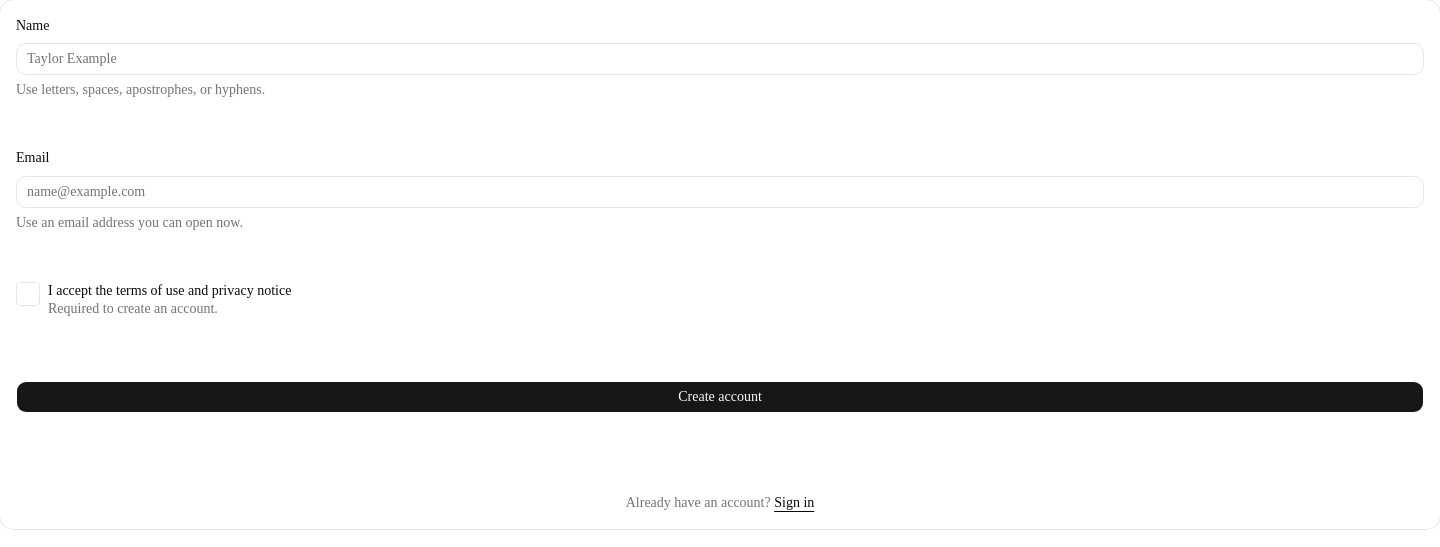
SignupForm core flow › submits normalized exact JSON once and shows the generic confirmation
In the field labelled "Name": coordinates (720, 59) [16, 43, 1424, 75], type "  José O’Neil  "
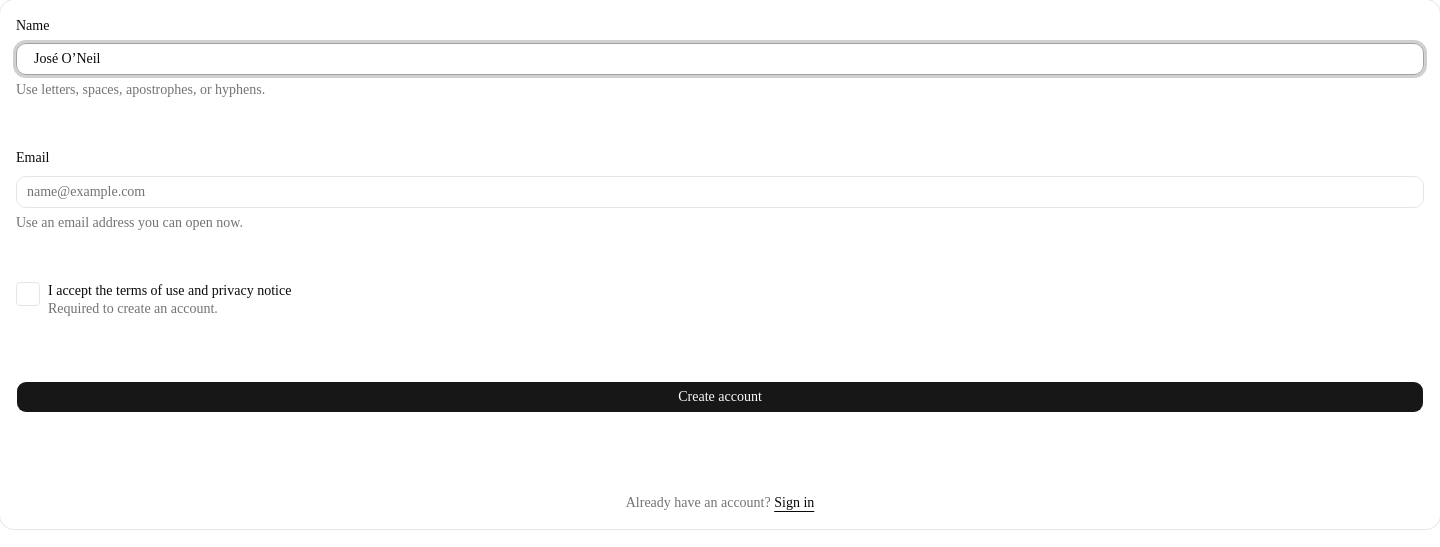
In the field labelled "Email": coordinates (720, 192) [16, 176, 1424, 208], type " Person@Example.COM "
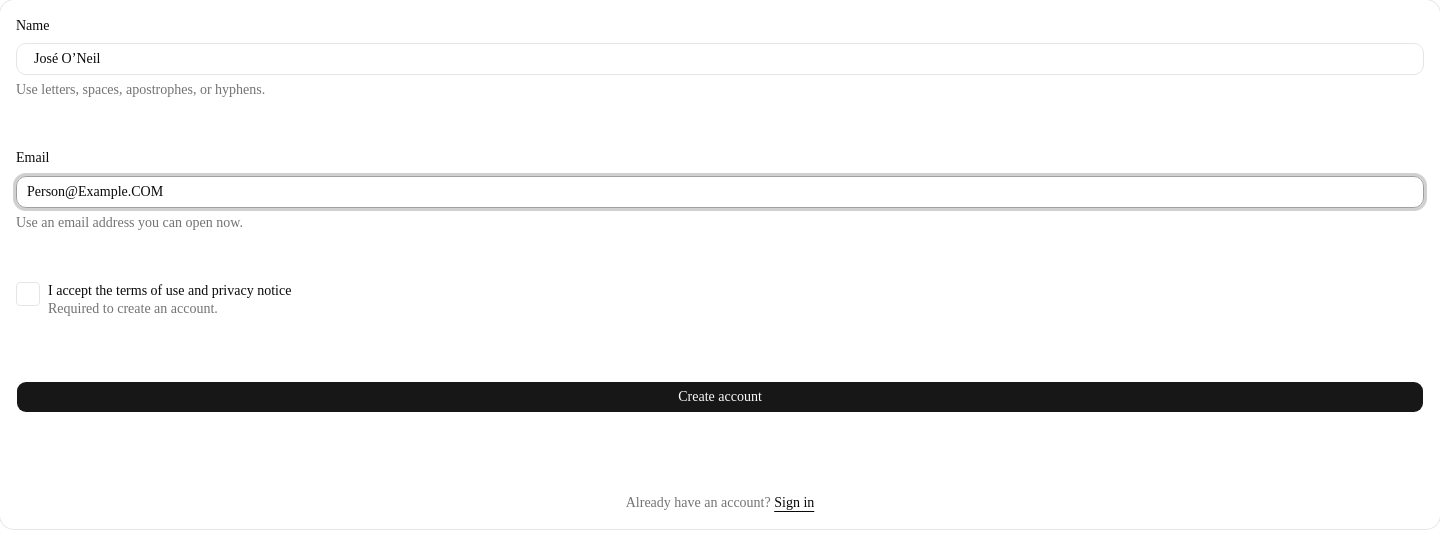
Click the 1st checkbox: coordinates (28, 294) [16, 282, 40, 306]
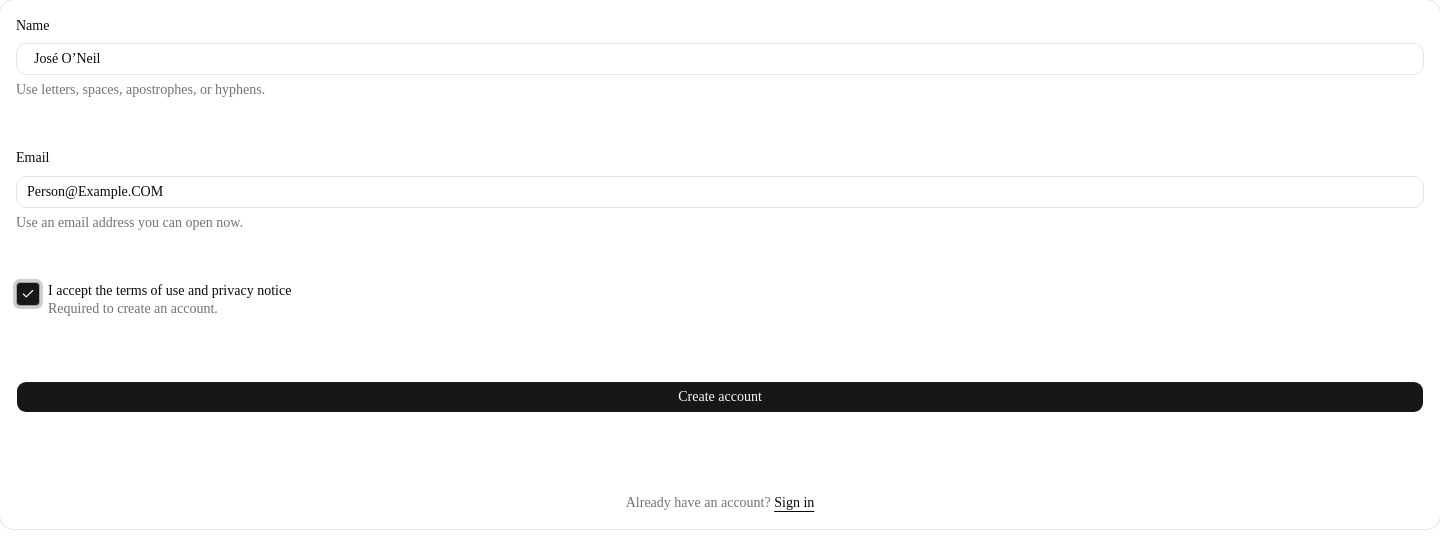
Click the button "Create account": coordinates (720, 397) [16, 381, 1424, 413]
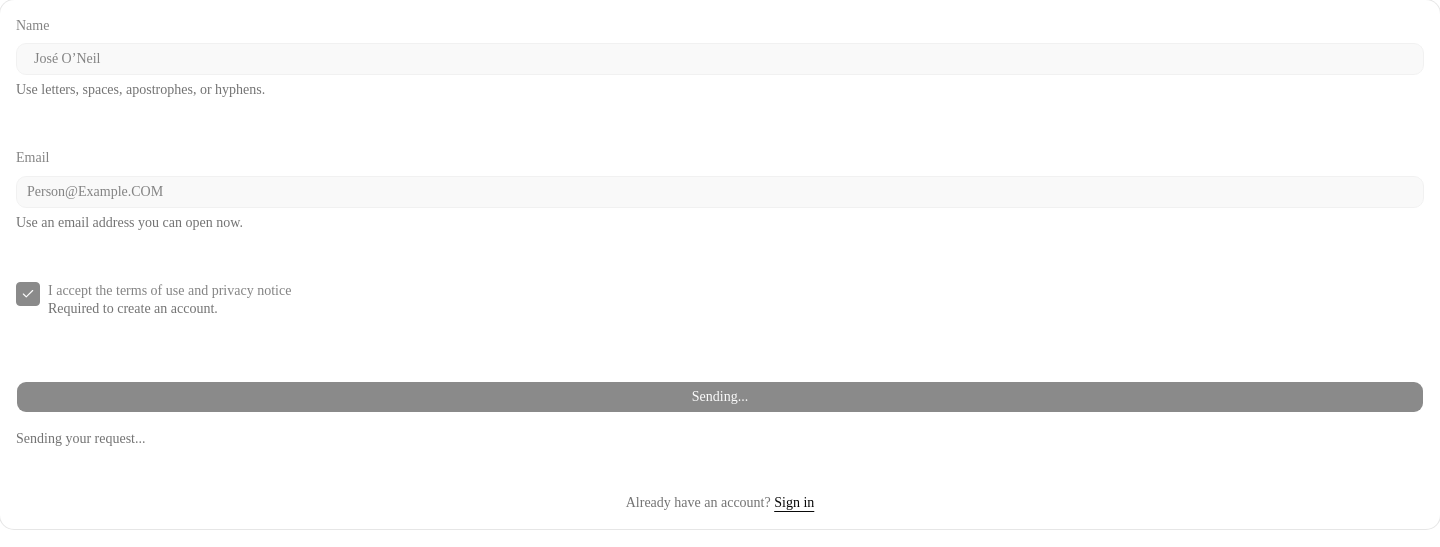
Expected: the button is disabled
Expected: the message reads "Sending your request...", [16, 431, 146, 446]
Click the button: coordinates (720, 397) [16, 381, 1424, 413]
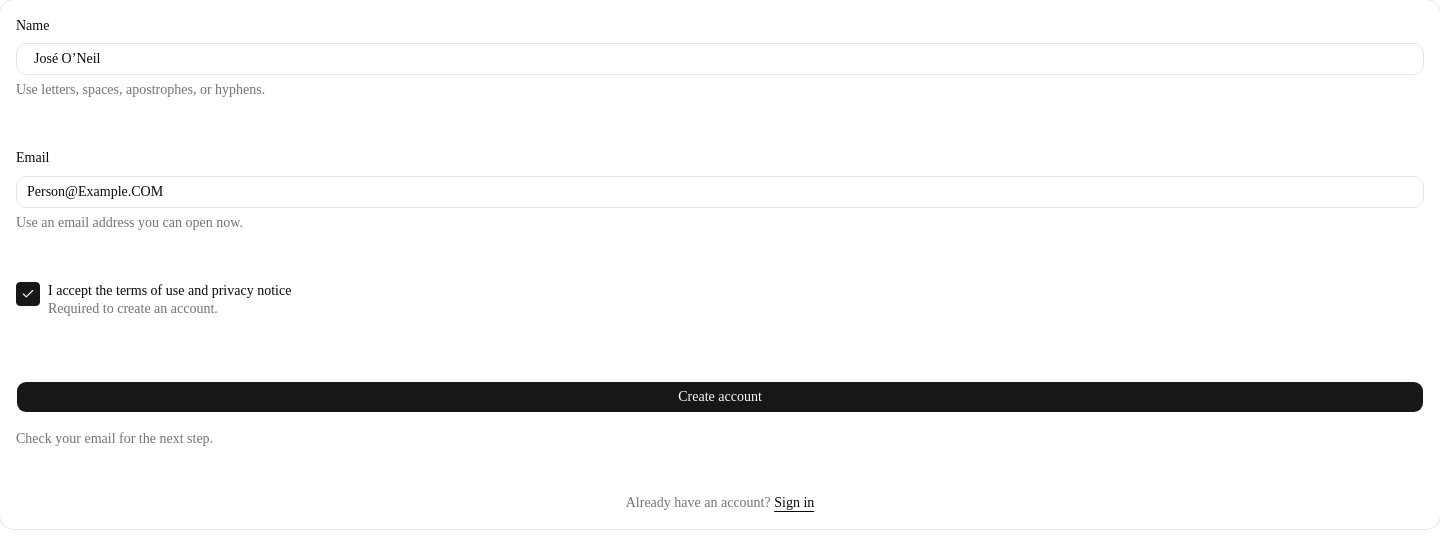
Expected: the message reads "Check your email for the next step.", [16, 431, 213, 446]
Expected: the button is enabled, [16, 381, 1424, 413]
